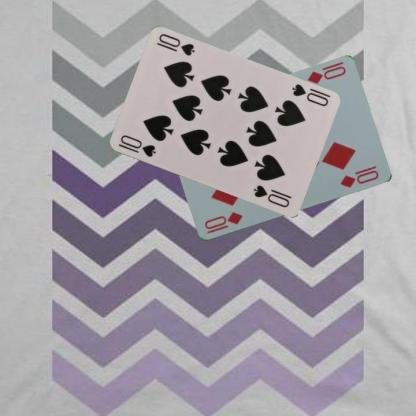10d: (304, 60, 348, 86), (202, 209, 244, 235)
10s: (115, 132, 157, 159), (289, 81, 329, 108)
